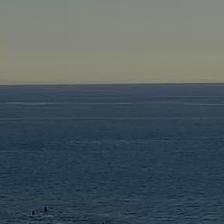surfer: (44, 207, 48, 211), (32, 210, 34, 216)
